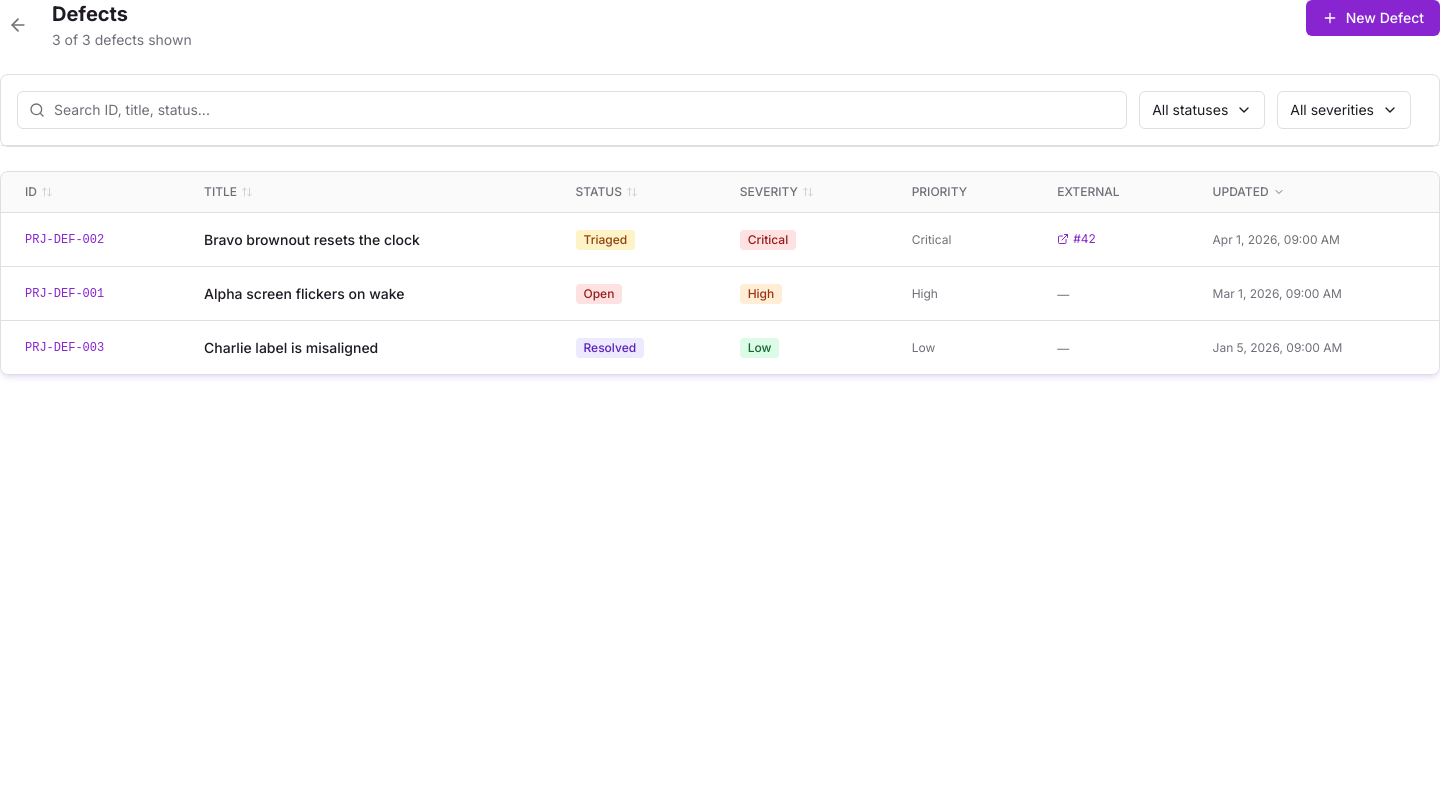
raising a defect › shows why the server refused, and keeps the form open
expect the text "Alpha screen flickers on wake" is shown: met, box [180,266,552,320]
Click the button "New Defect".
click(1373, 18)  # box [1306,0,1439,36]
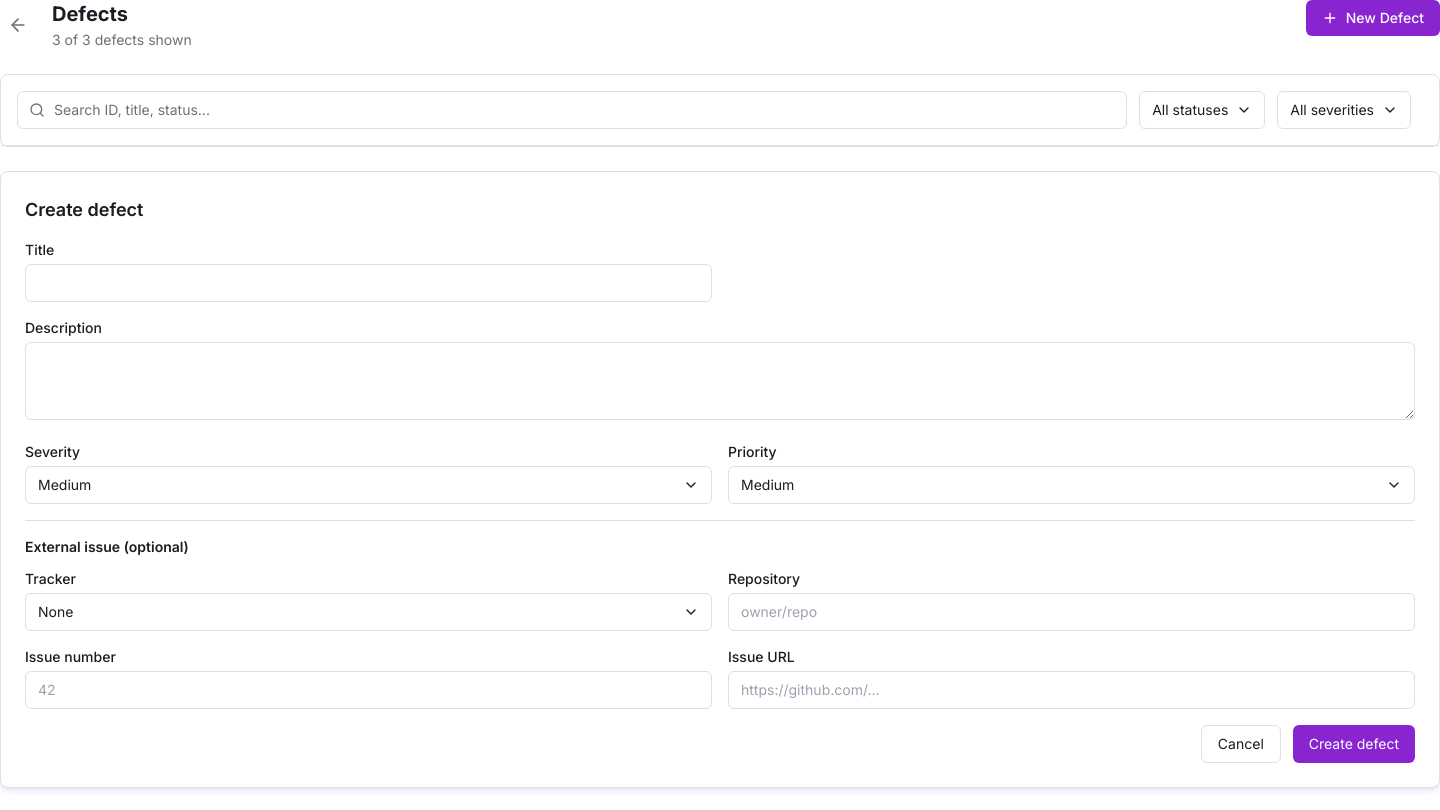
Type "Duplicate link" into the field titled "Title".
click(368, 283); type("Duplicate link")  # box [25,264,712,302]
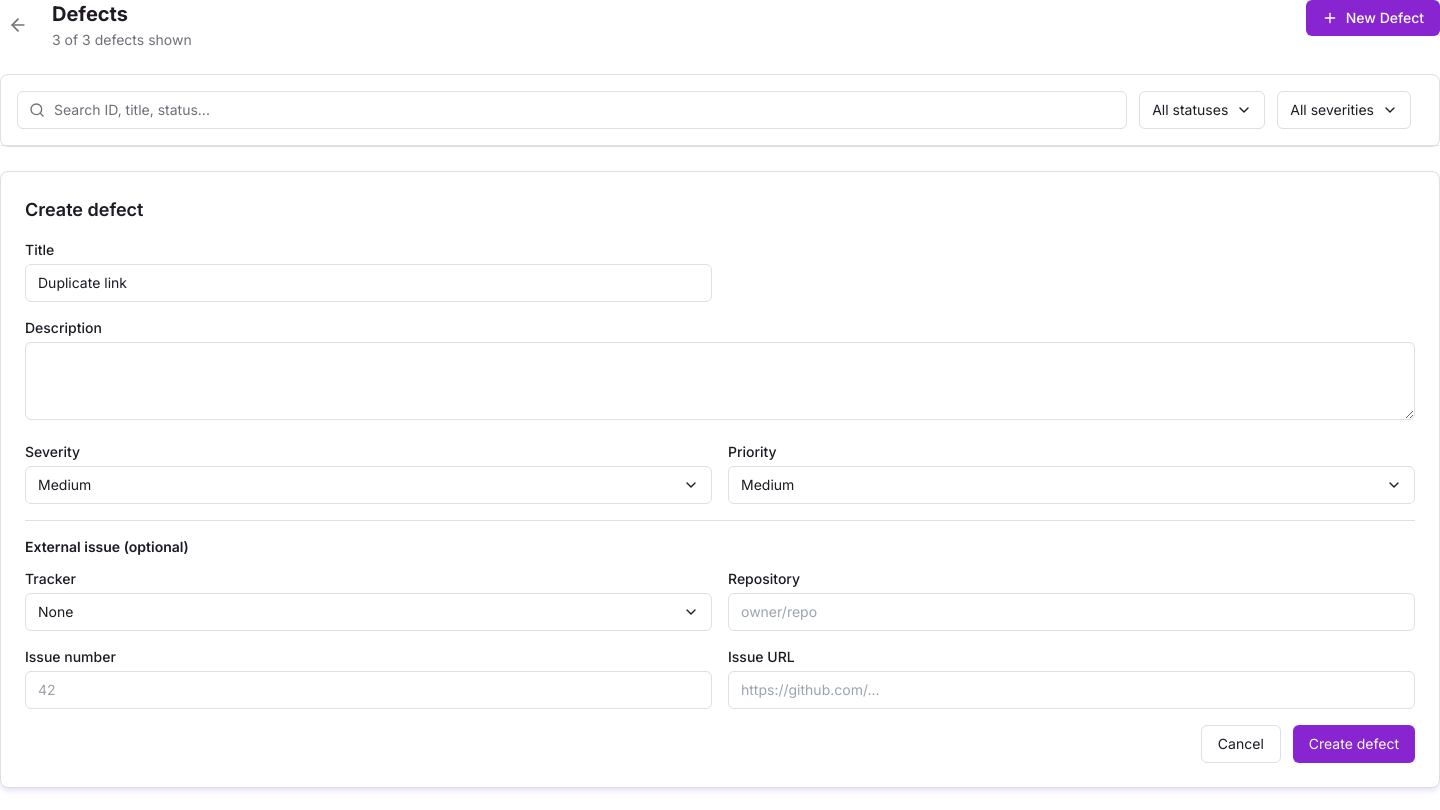
Click the button "Create defect".
click(1354, 744)  # box [1293,725,1415,763]
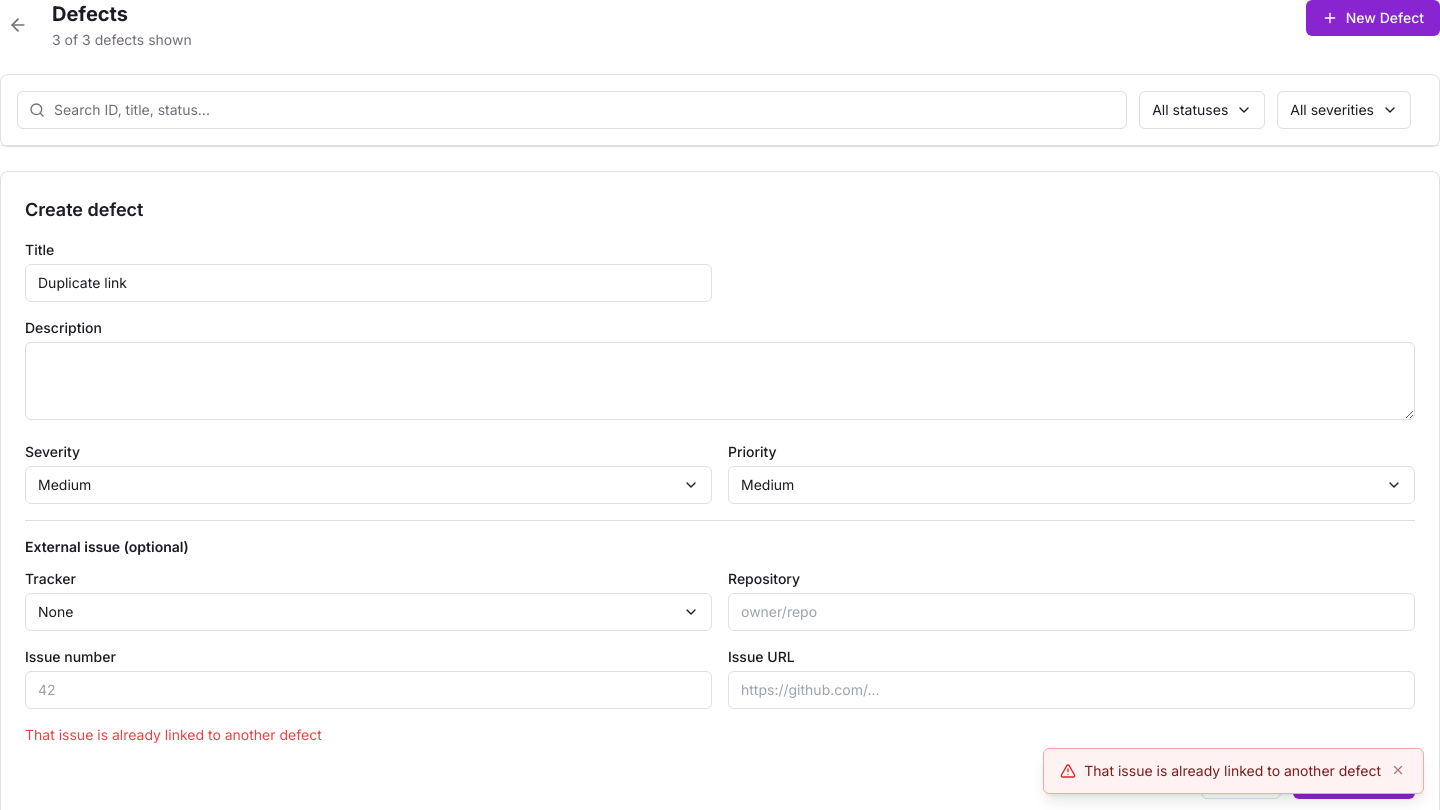
expect the text "That issue is already linked to another defect" below "Issue number" is shown: met, box [25,726,322,743]
